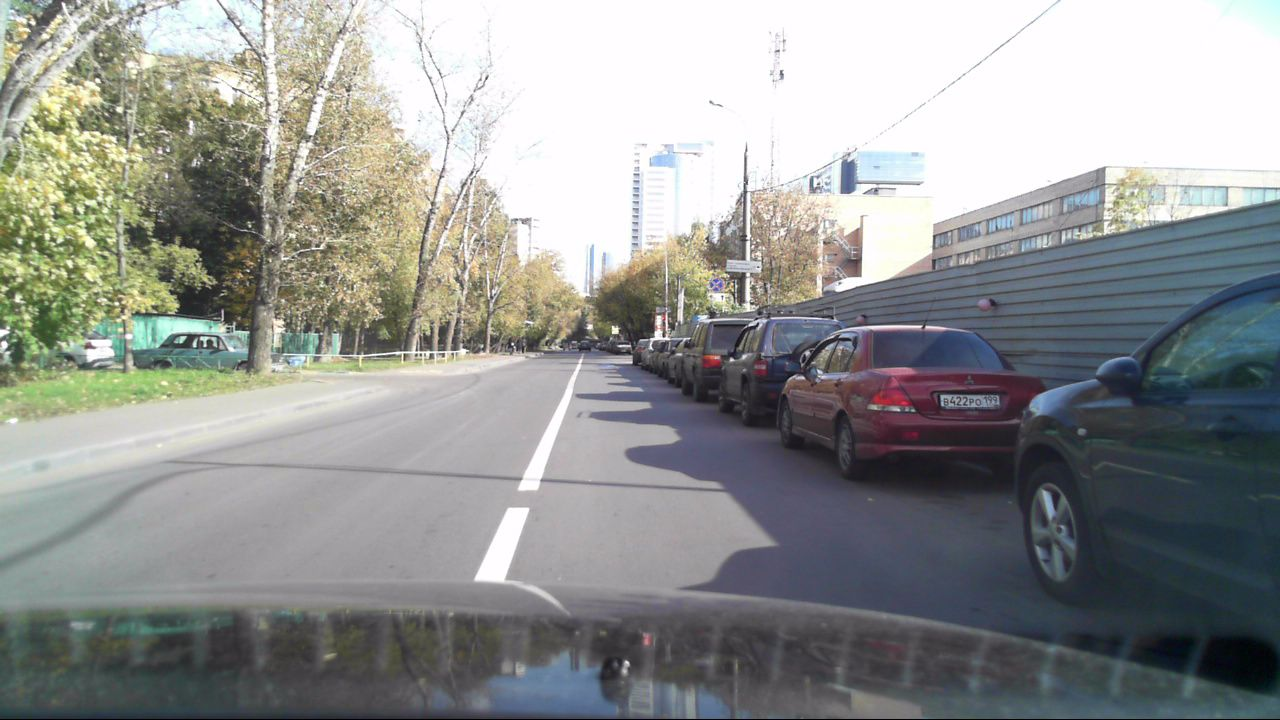No Parking: (704, 274, 730, 291)
